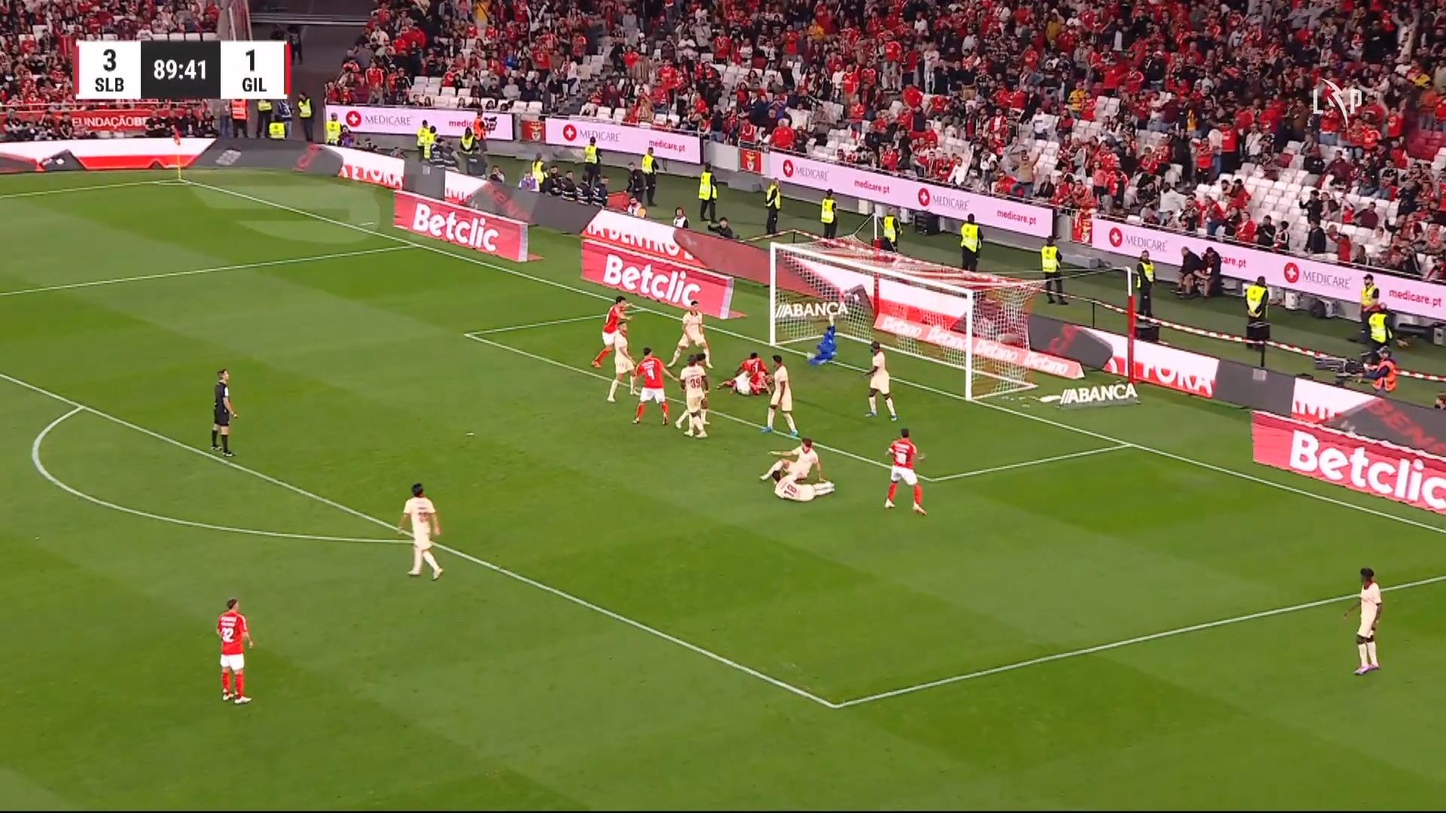goalkeeper: (807, 315, 837, 366)
player: (396, 482, 444, 580), (1342, 566, 1383, 675), (215, 598, 255, 705), (883, 427, 927, 515), (630, 346, 677, 425), (759, 353, 800, 439), (665, 299, 713, 370), (590, 294, 633, 368), (759, 437, 822, 486), (861, 340, 898, 421), (675, 352, 709, 438), (606, 321, 639, 403), (716, 350, 770, 396), (773, 473, 834, 502)
referee: (209, 368, 238, 457)
